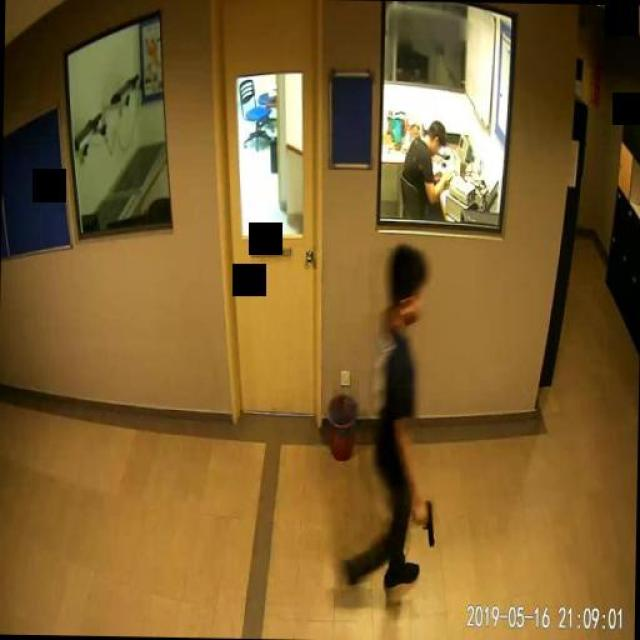gun: (414, 496, 435, 546)
